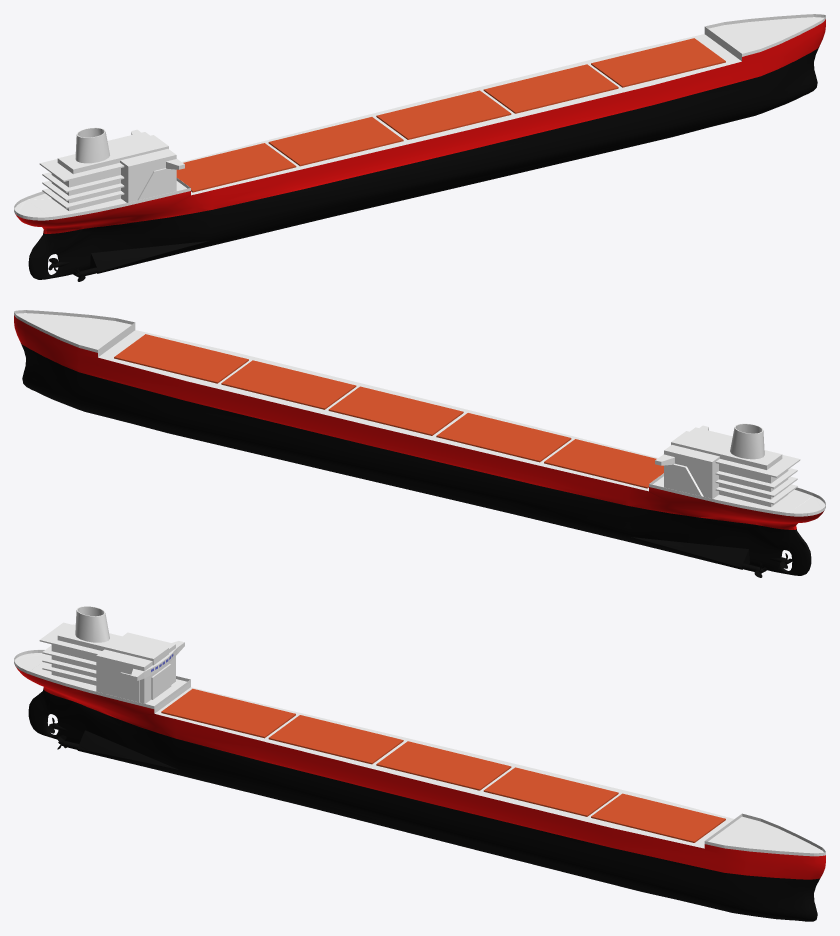
Rendered from Tanker.fbx.
The picture shows the model from 3 angles, top to bottom: view 1: azimuth 30°, elevation 25°; view 2: azimuth 150°, elevation 25°; view 3: azimuth 330°, elevation 25°; orthographic projection.
Parts seen in each view (by area): view 1: Tanker; view 2: Tanker; view 3: Tanker.
Part boxes in pixels (bbox=[...]): Tanker: bbox=[14, 14, 825, 281]; Tanker: bbox=[14, 310, 825, 577]; Tanker: bbox=[14, 606, 825, 921].
Bounding box in the file's own units: 6177 × 1002 × 630.
